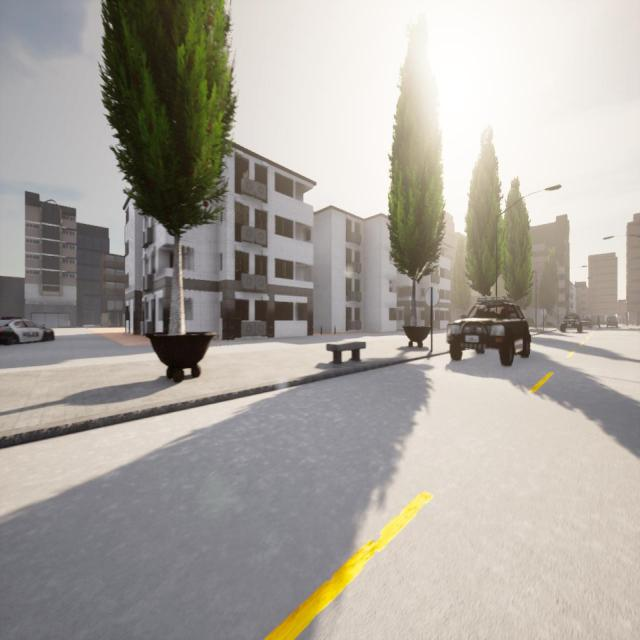Pedestrian: (596, 314, 601, 330)
Traffic_Signs: (424, 287, 439, 308), (540, 308, 547, 316)
Vehicle: (446, 297, 530, 365), (0, 316, 55, 345), (560, 314, 582, 334), (606, 315, 618, 328), (581, 317, 592, 329)
